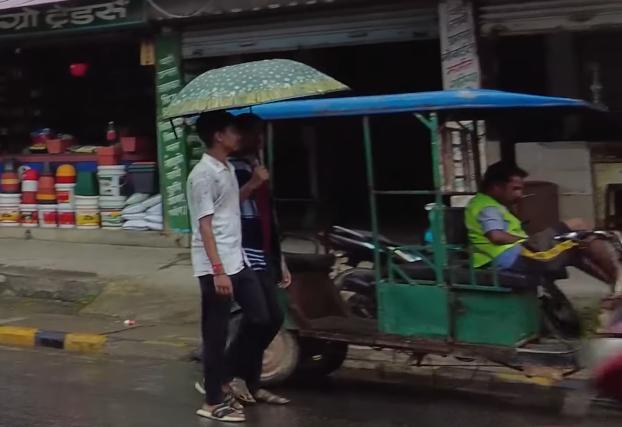e-rickshaw: (202, 76, 622, 399)
